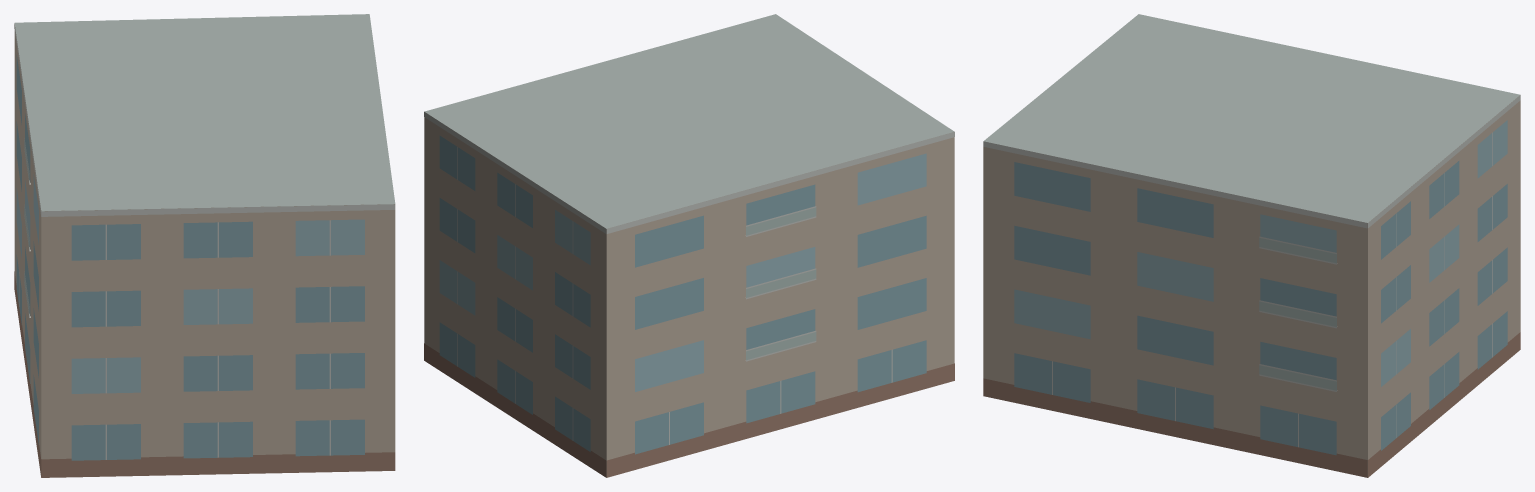
The model's file is survey-upis-32944693.glb.
3 renders of one model, left to right at view 1: azimuth 30°, elevation 25°; view 2: azimuth 150°, elevation 25°; view 3: azimuth 270°, elevation 25°, orthographic. The views are drawn at different scales.
Parts seen in each view (by area): view 1: survey-upis-32944693.tmp; view 2: survey-upis-32944693.tmp; view 3: survey-upis-32944693.tmp.
Boxes of the visible parts, x1=… form: survey-upis-32944693.tmp: x1=14, y1=14, x2=395, y2=477; survey-upis-32944693.tmp: x1=424, y1=14, x2=954, y2=477; survey-upis-32944693.tmp: x1=983, y1=14, x2=1520, y2=477.
Size of the model in its own units: 19.89 by 11.3 by 21.6.
